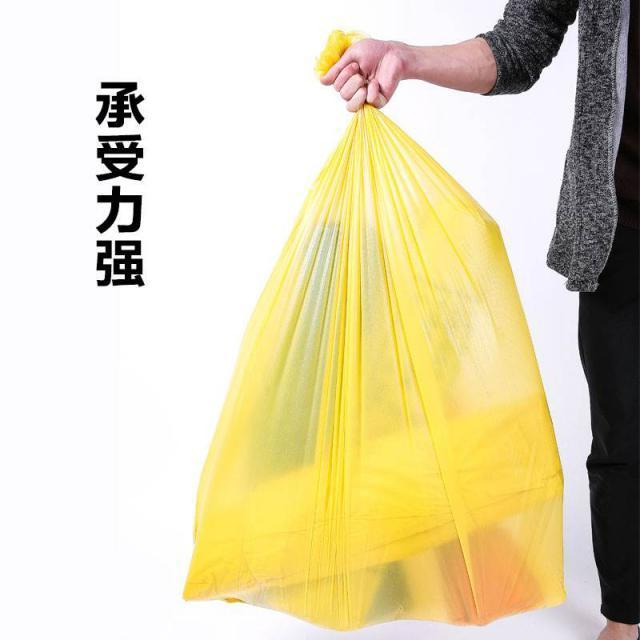waste: (185, 52, 567, 622)
